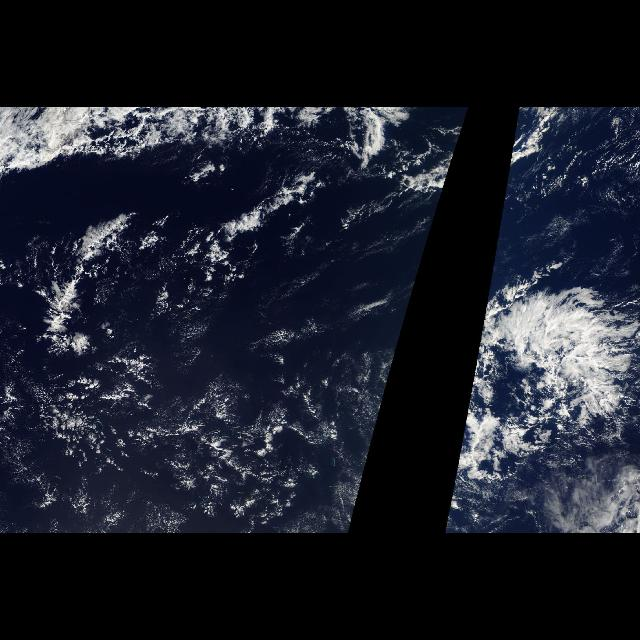Fish: (9, 111, 448, 356)
Gravel: (18, 206, 342, 484)
Sugar: (1, 360, 395, 532), (452, 238, 638, 532)
